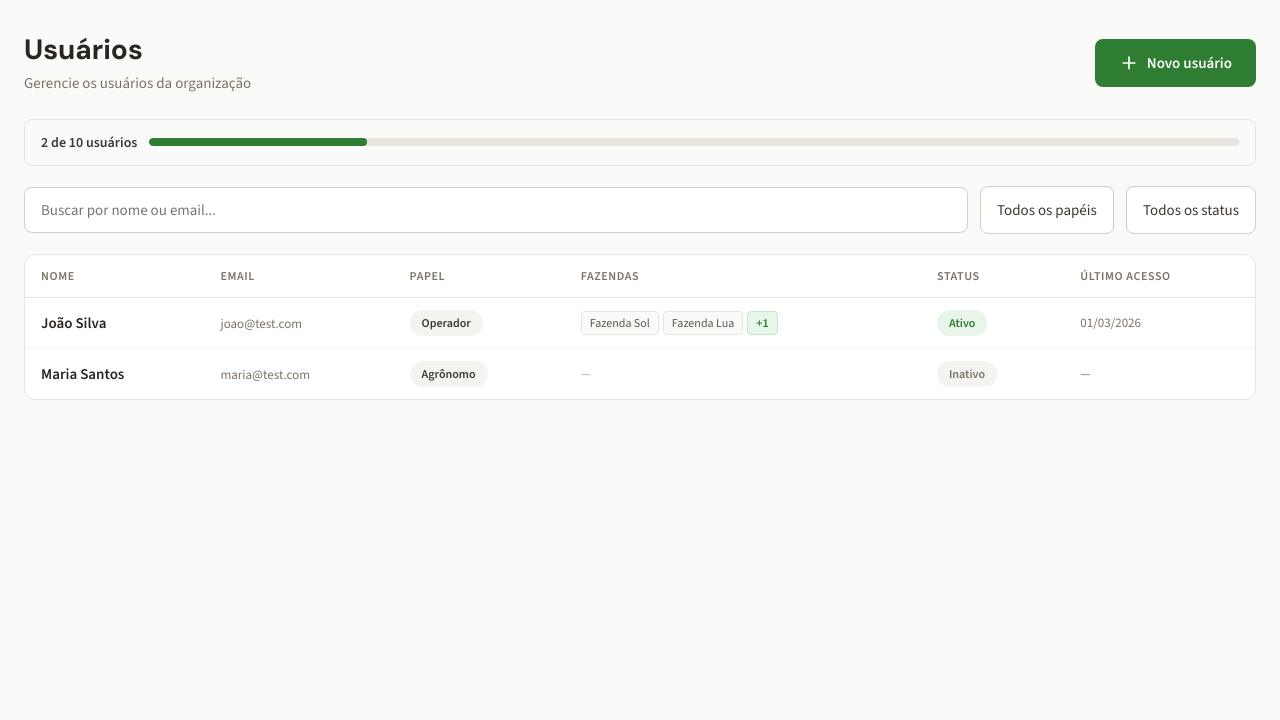
it: OrgUsersPage › should open create modal
The width and height of the screenshot is (1280, 720).
Step 1. Click the button "Novo usuário" → (1175, 63), box [1095,39,1256,87]
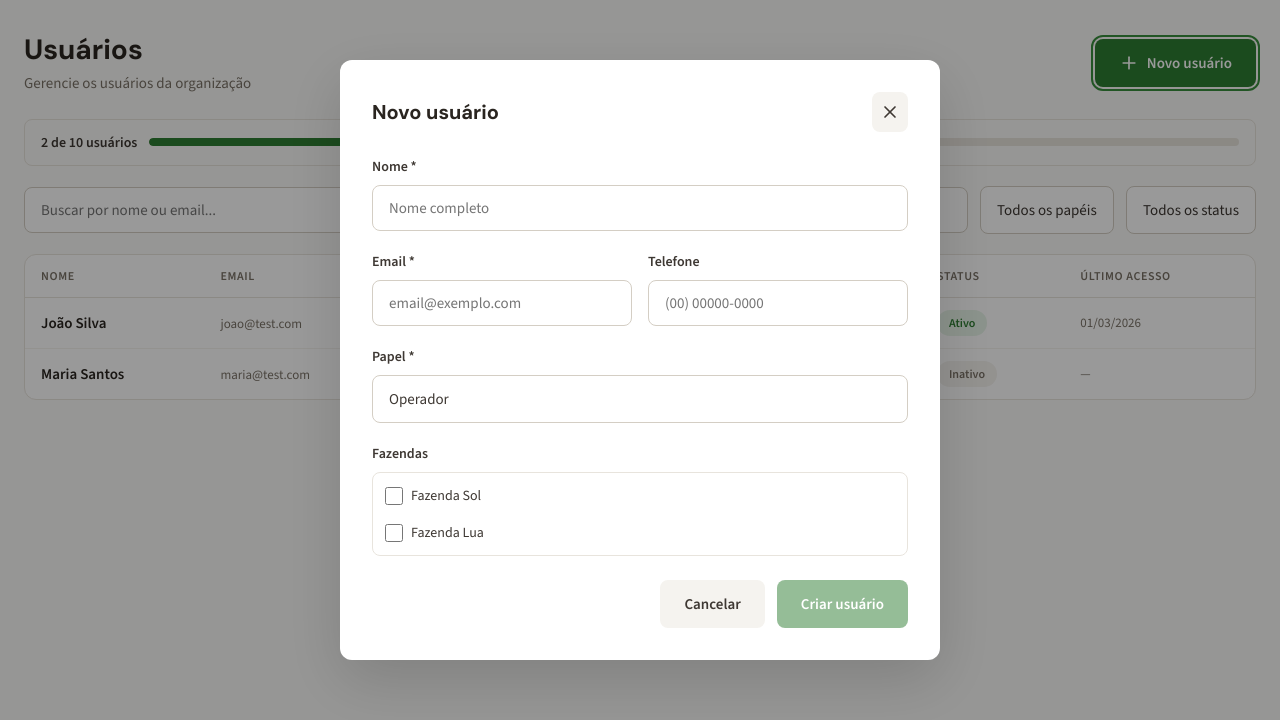
Check: the field labelled "Nome *" is shown, box [372,185,908,231]
Check: the field labelled "Email *" is shown, box [372,280,632,326]
Check: the dropdown labelled "Papel *" is shown, box [372,375,908,423]
